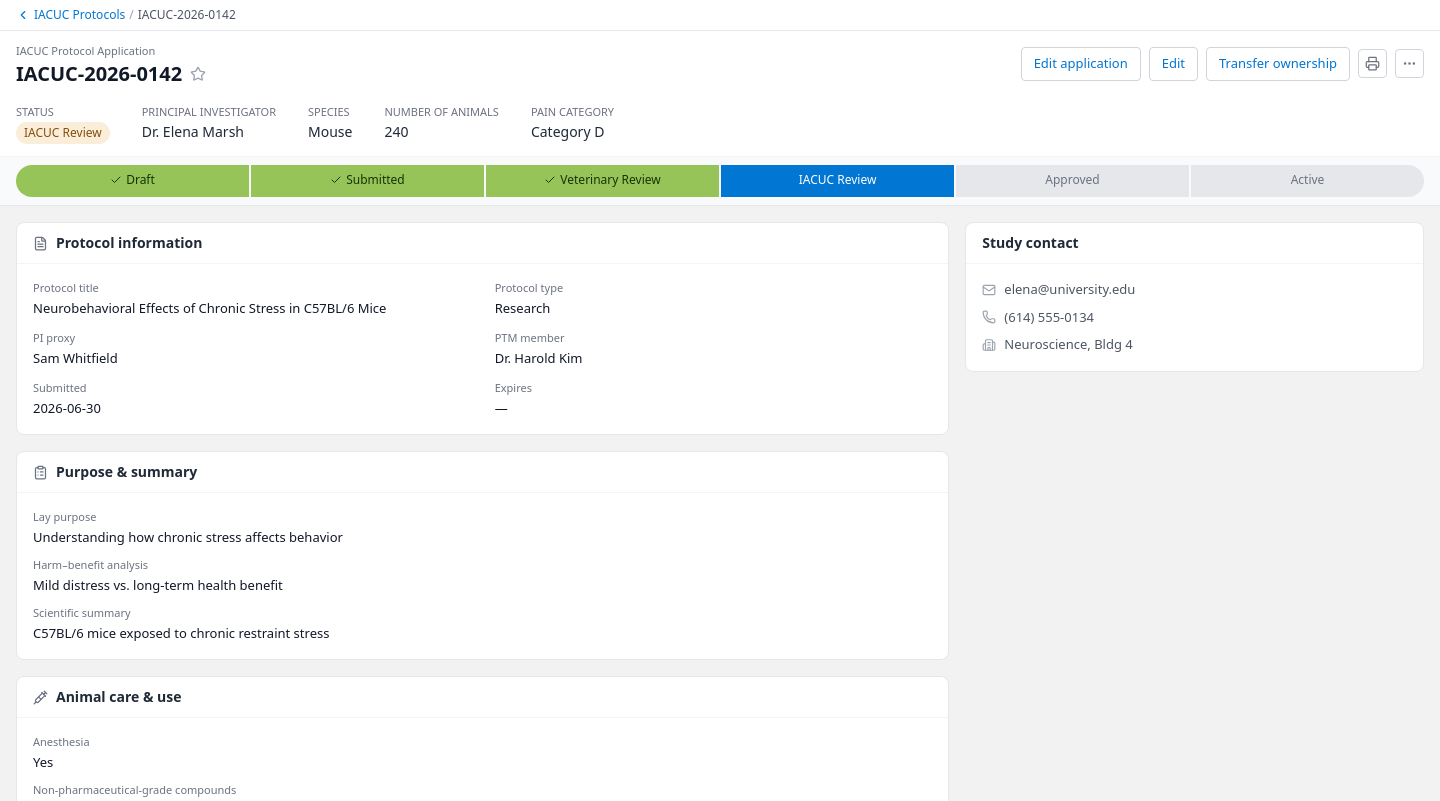
Test: DetailPage › shows an inline error when saving fails and keeps the modal open
Expected: the heading "IACUC-2026-0142" is shown, [16,60,182,88]
Click the button "Edit".
click(1173, 64)  # box [1149,47,1198,80]
(page scrolled)
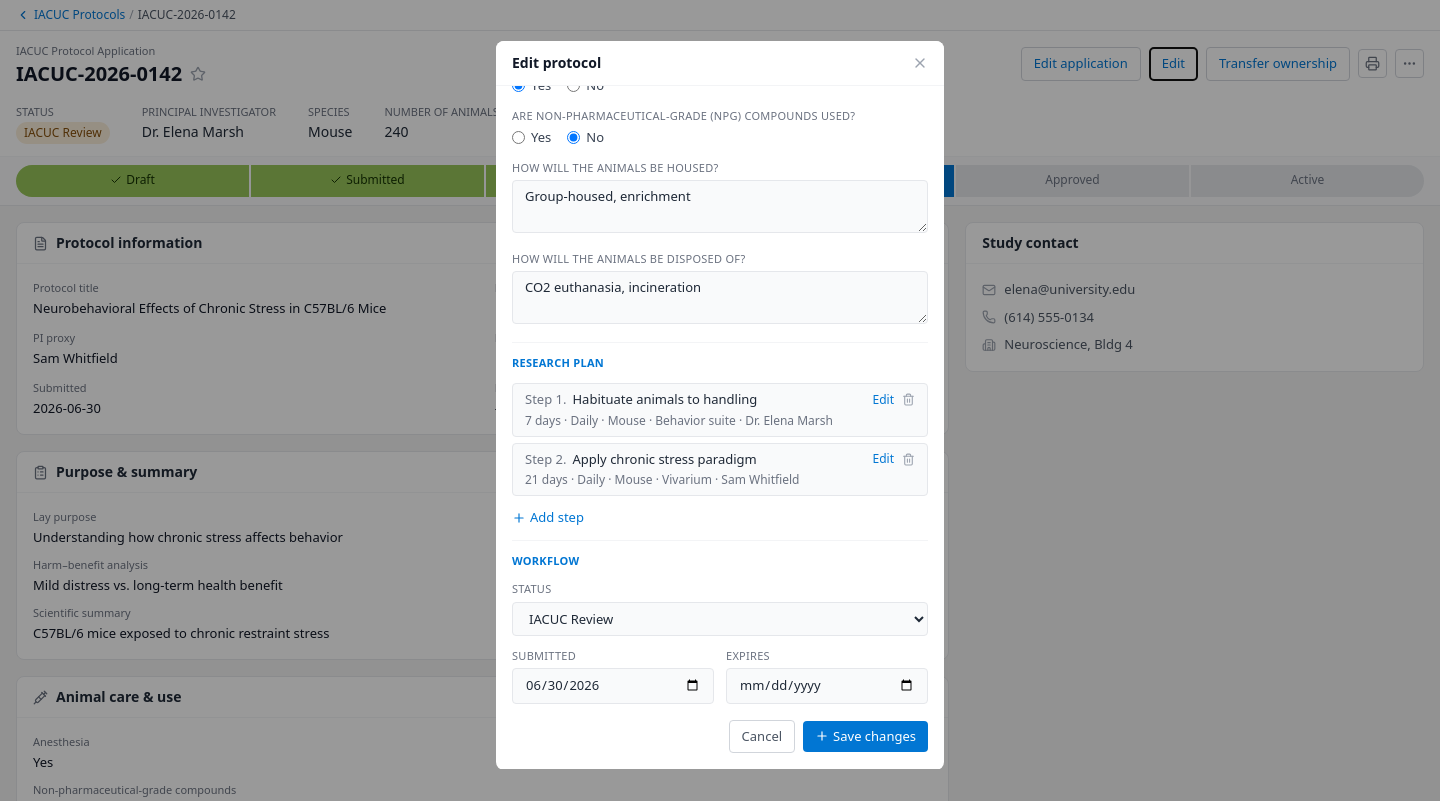
Click the button "Save changes".
click(866, 736)  # box [803,720,928,752]
(page scrolled)
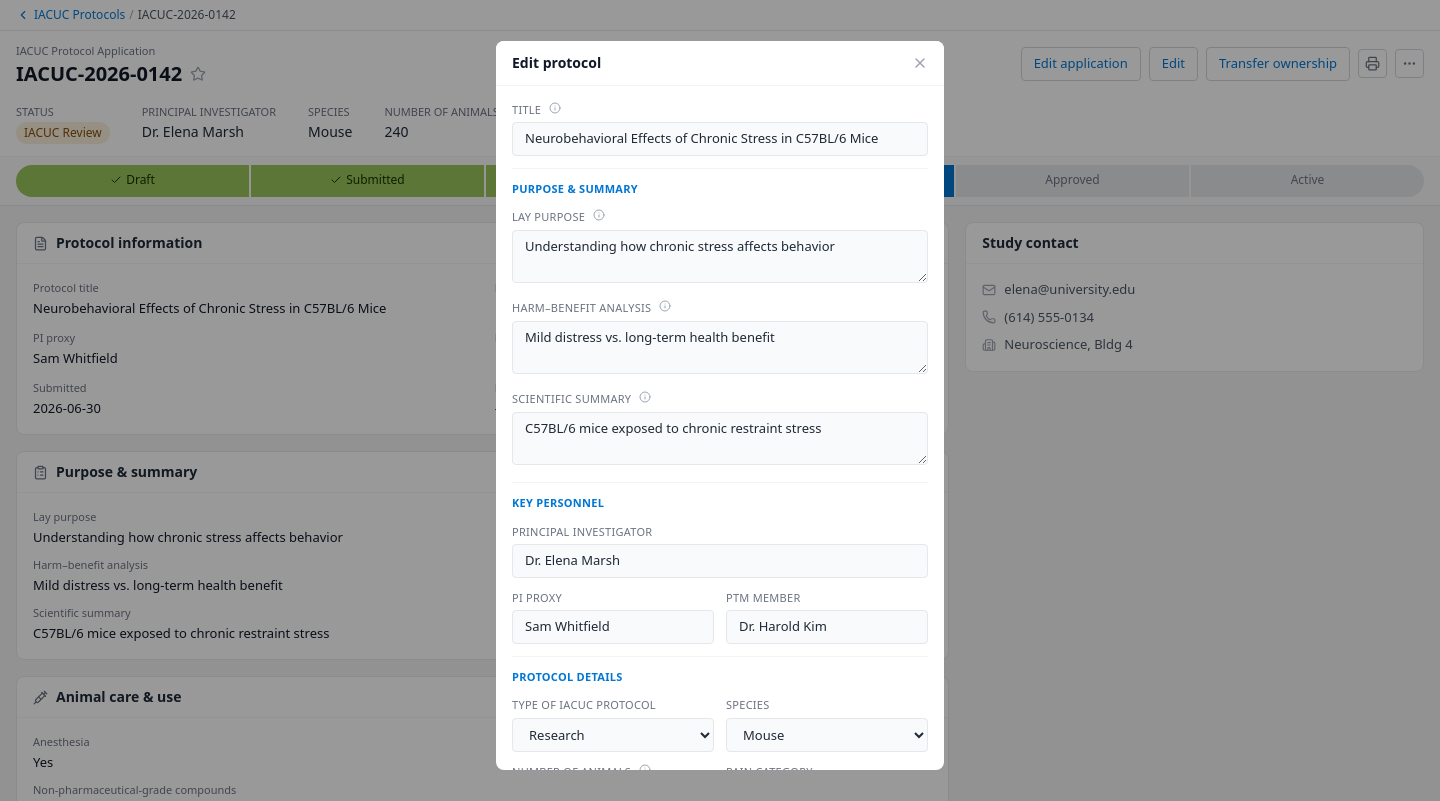
Expected: the field labelled "Title" is shown, [512,122,928,156]
